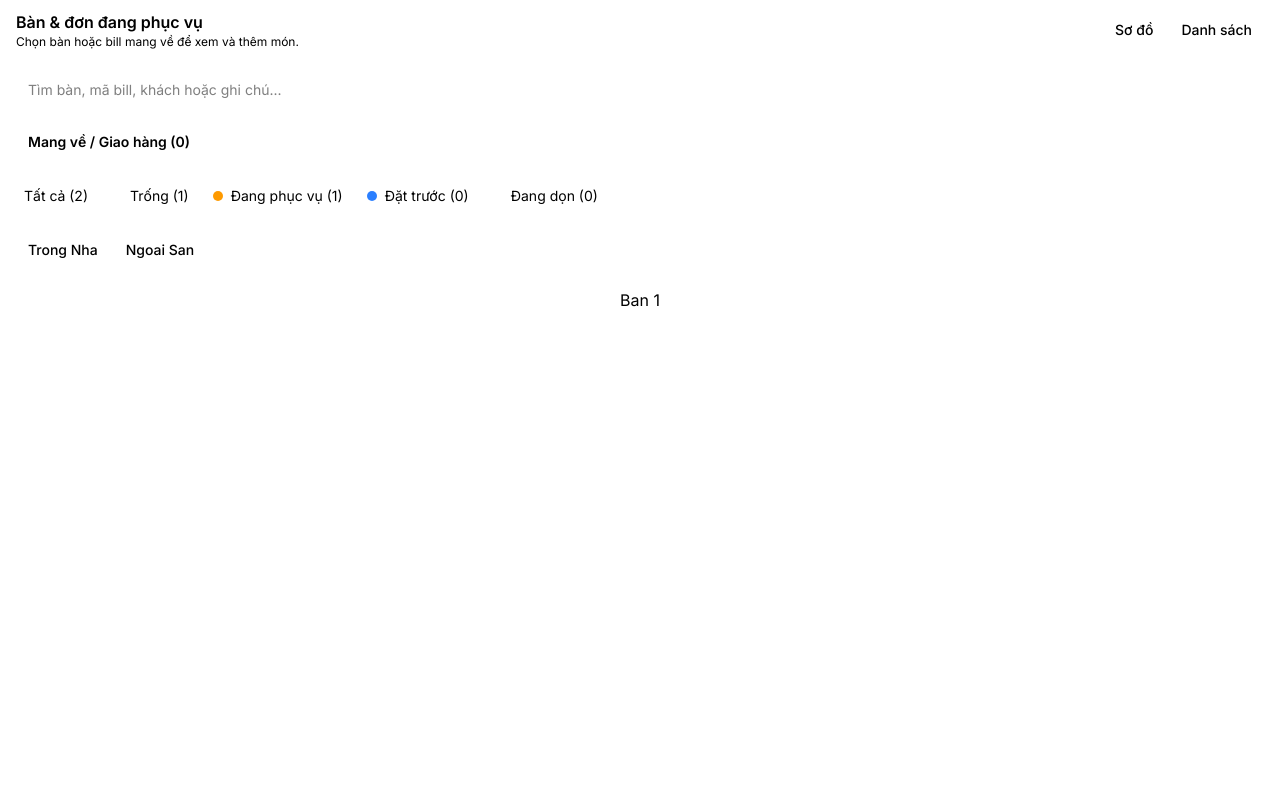
Test: POS floor plan keeps table actions in the selected zone › filters serving tables without changing their status or opening orders
Expected: the button "Ban 1" is shown, [620, 288, 660, 312]
What coordinates should you click on to do the following:
click the button "Đang phục vụ (1)"
I would click on:
 (278, 196)
Its box is [205, 176, 351, 216].
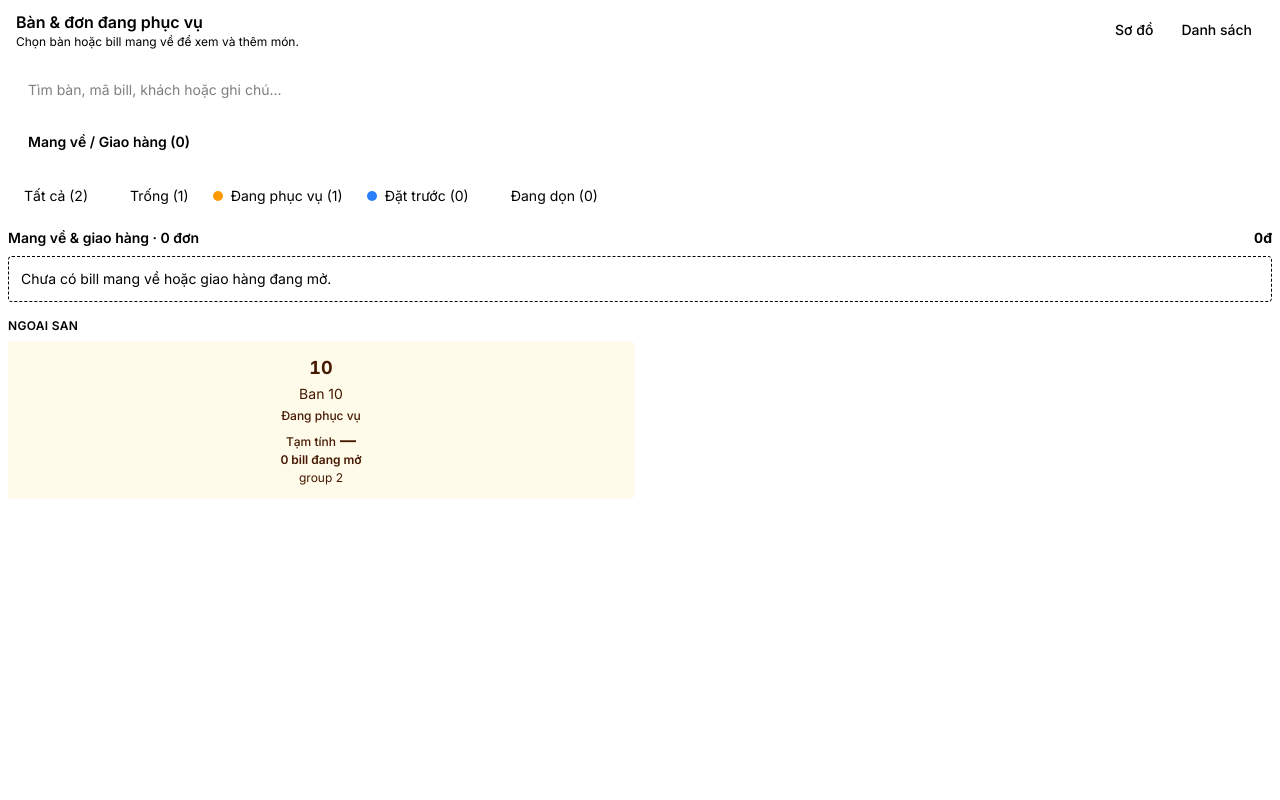
Now the button "10 Ban 10 Đang phục vụ Tạm tính— 0 bill đang mở group 2" is shown, box [8, 342, 634, 498]
What coordinates should you click on to do the following:
click the button "Tất cả (2)"
I would click on:
 (56, 196)
Its box is [16, 176, 96, 216].
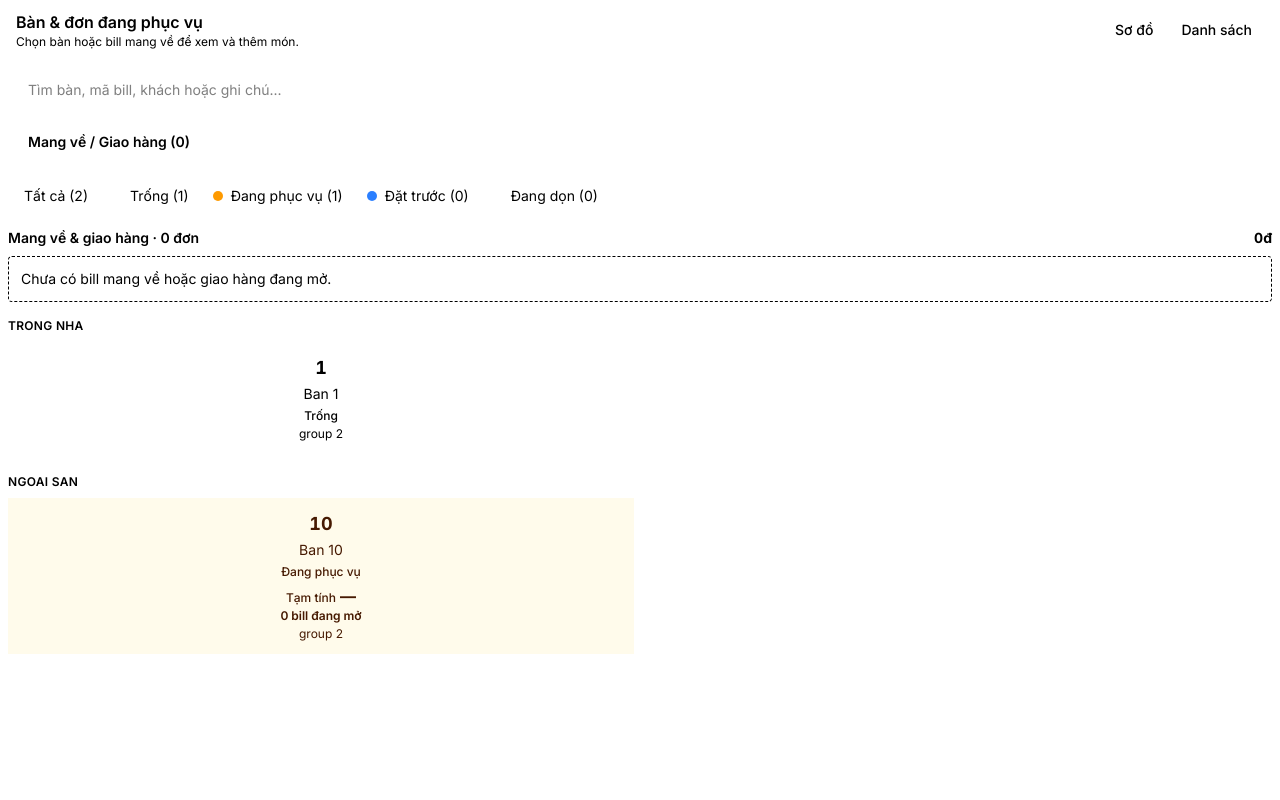
Now the button "1 Ban 1 Trống group 2" is shown, box [8, 342, 634, 454]
